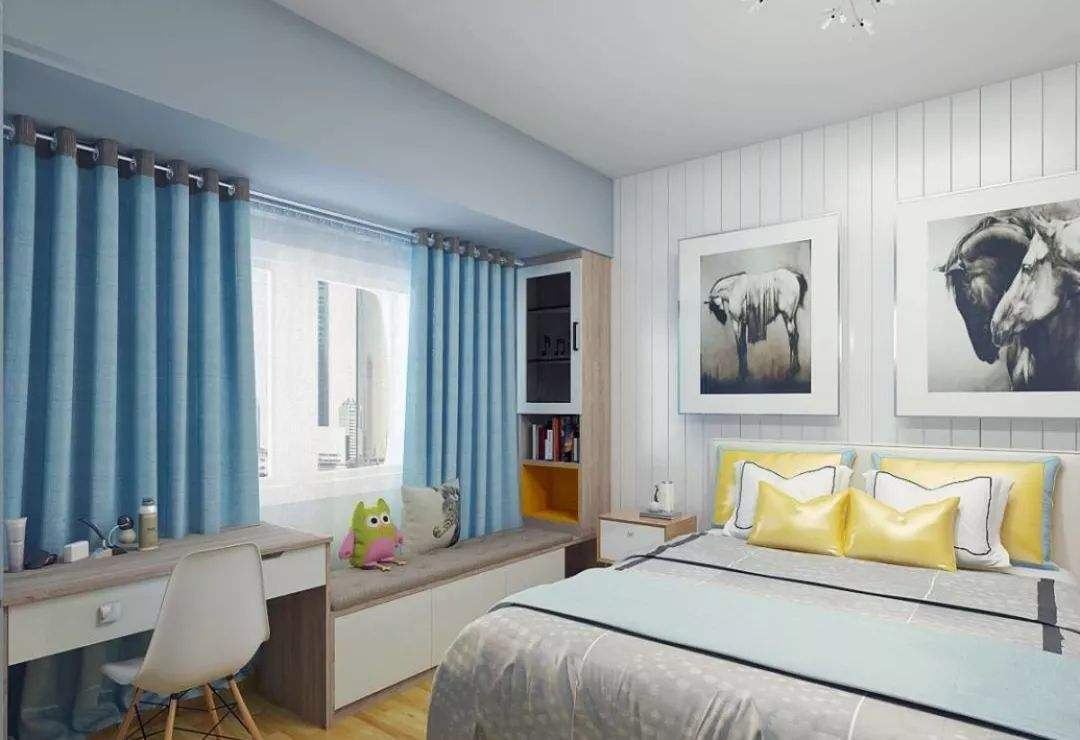床: (425, 543, 1079, 740)
枕头: (728, 459, 995, 571)
灯: (826, 9, 881, 36)
